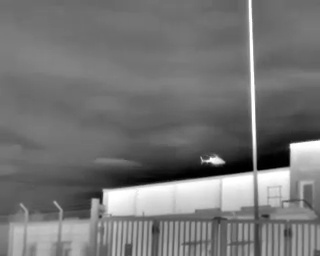HELICOPTER: (193, 148, 231, 170)
